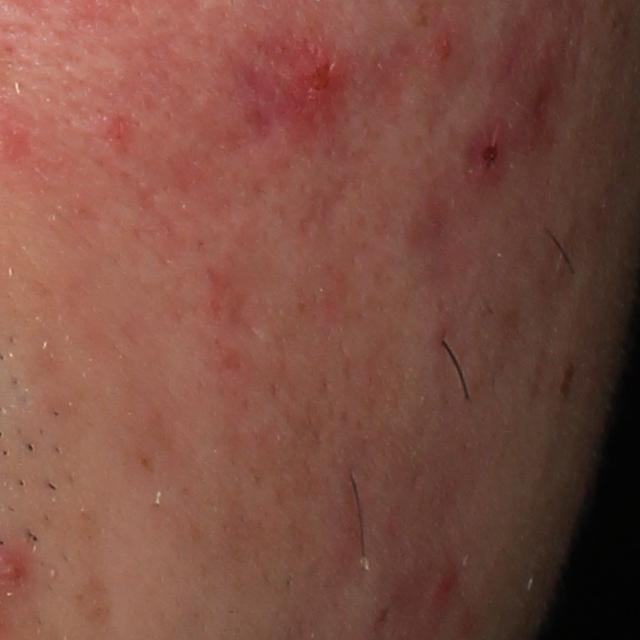nevus: (560, 359, 578, 400)
papule: (274, 43, 356, 140), (462, 118, 513, 188), (430, 26, 478, 81), (431, 566, 463, 610)
